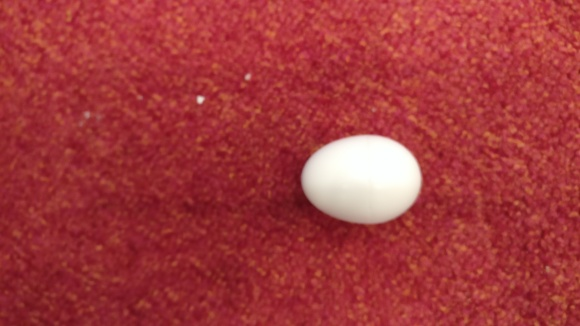egg: (299, 132, 423, 226)
